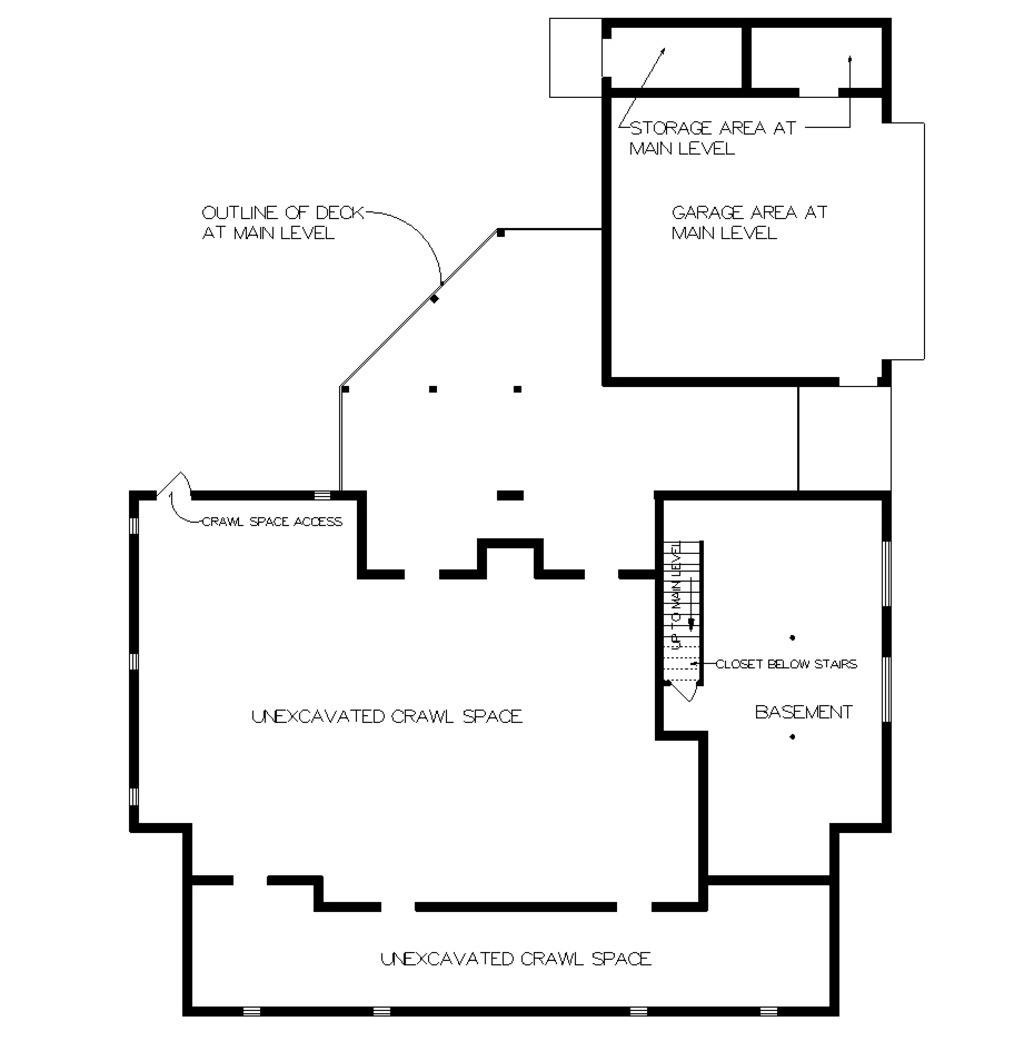door: (152, 453, 207, 511), (672, 672, 715, 706)
stairs: (662, 530, 722, 677)
window: (878, 653, 899, 729), (880, 534, 897, 600)
